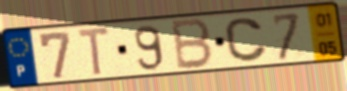7: (36, 30, 73, 80), (272, 11, 302, 62)
9: (132, 24, 165, 72)
B: (171, 17, 215, 72)
C: (222, 16, 270, 64)
T: (75, 25, 112, 79)
